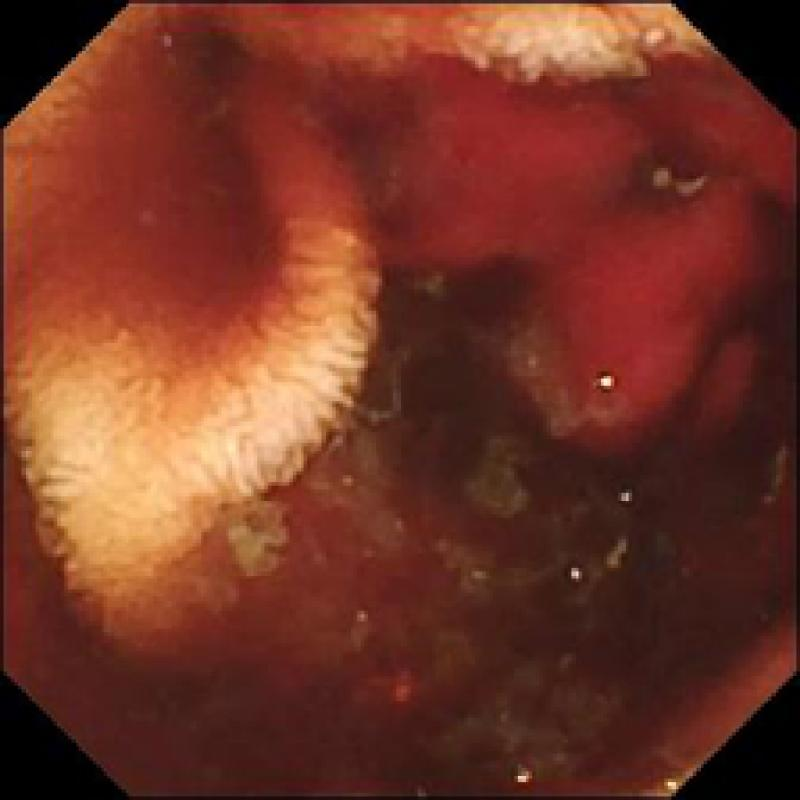bleeding: (332, 43, 800, 471)
